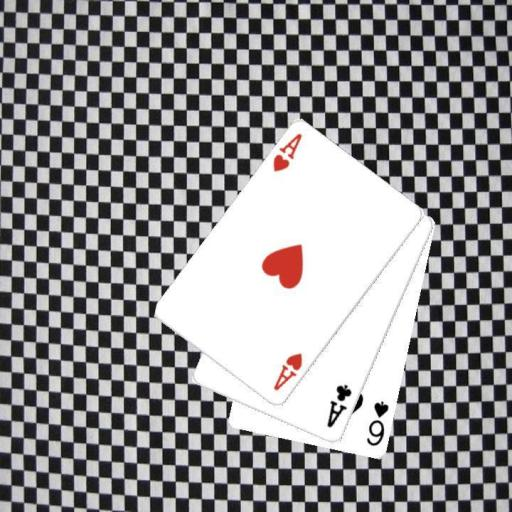card-corner: (270, 130, 304, 174), (270, 350, 304, 392), (324, 382, 354, 429), (364, 398, 390, 448)
